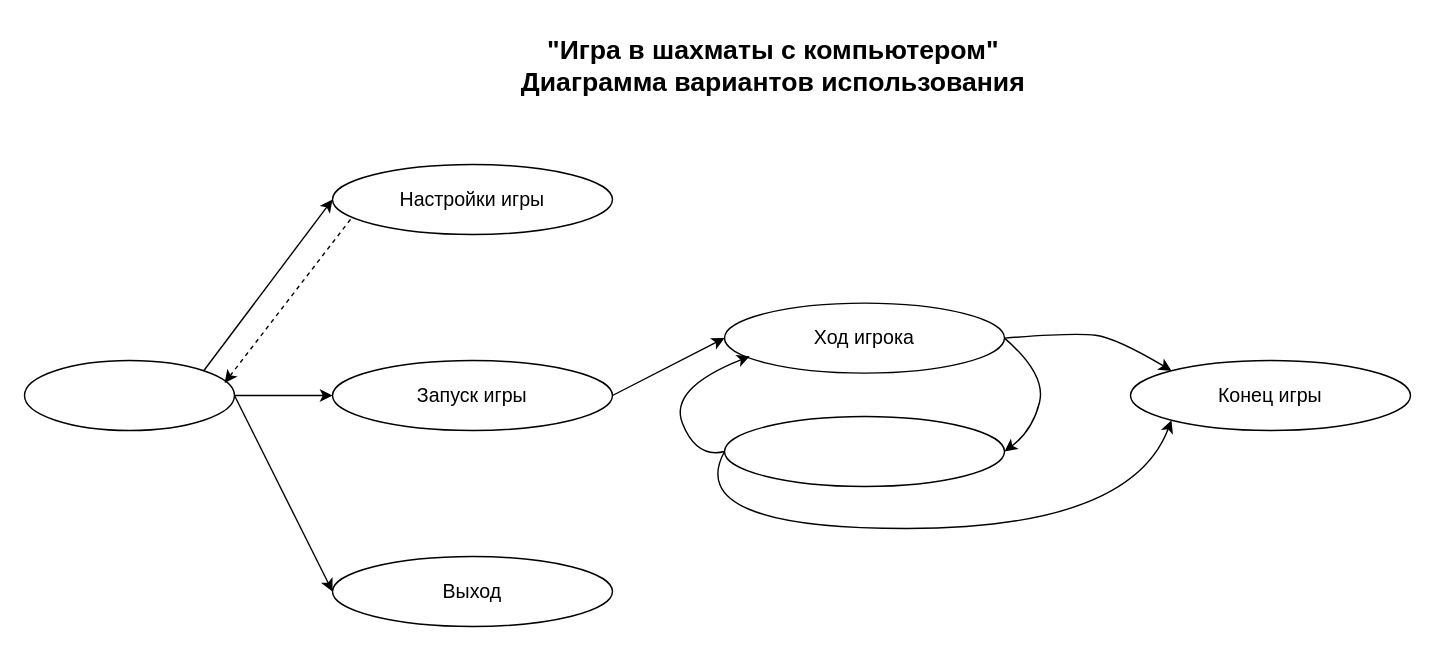
Image size: 1435x651. Some labels were removed from this diagram. Here are the shapes that lost their labels. From the top down, the centre of each, then its label:
the point at 128,394: Пользователь
the point at 863,450: Ход компьютера
